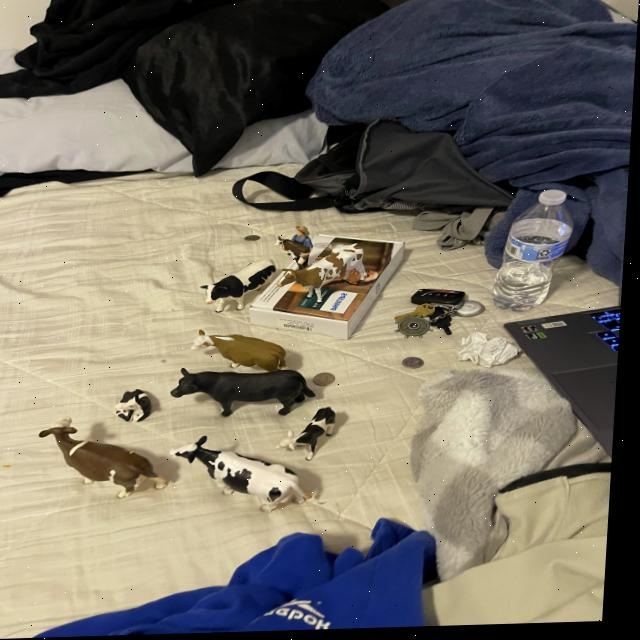cow: (34, 409, 180, 519), (169, 429, 326, 525), (175, 369, 320, 420), (286, 239, 379, 314), (203, 252, 284, 314), (283, 399, 350, 471), (195, 331, 294, 375), (117, 387, 160, 428), (276, 238, 316, 269)
person: (294, 226, 322, 251)
